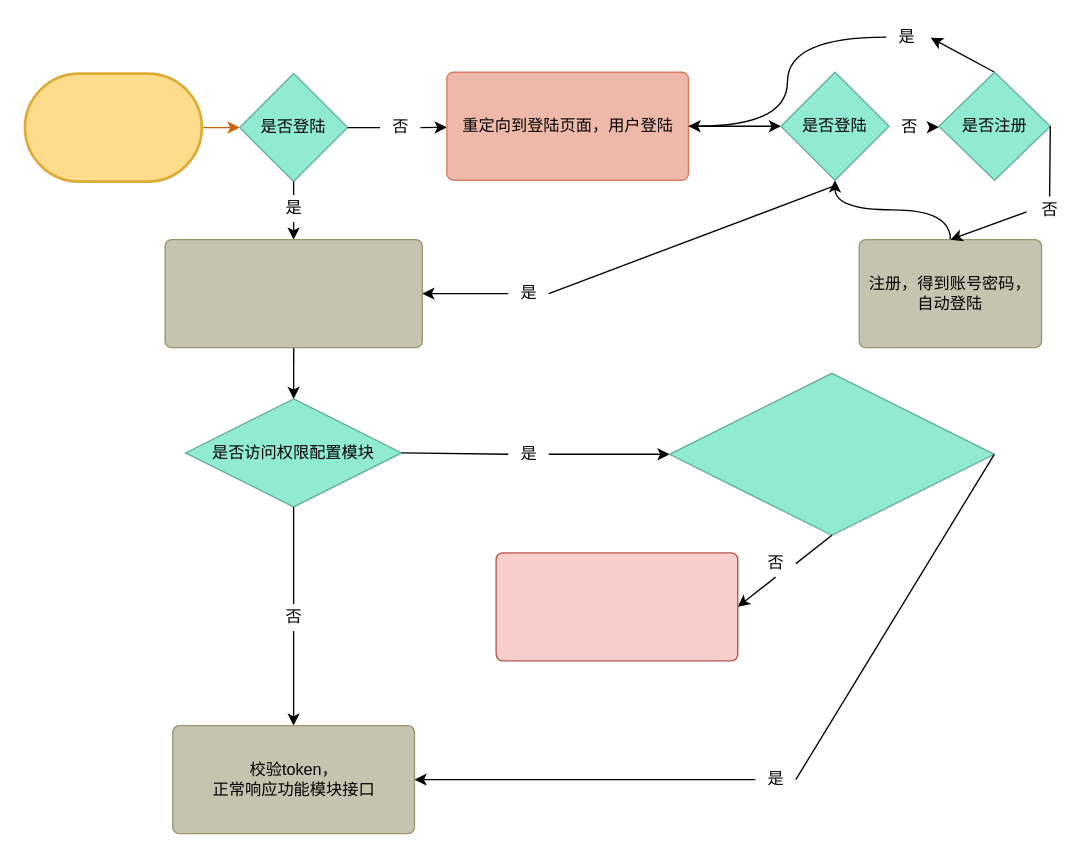
This 1092x857 diagram has some shape labels left out. The centre of each missing label's shape, as x and y in pixels:
"无权限，拒绝接口请求并提示" goes at (x=616, y=606).
"用户角色数组是否与角色白名单有交集" goes at (x=831, y=453).
"获取token、用户信息， 路由数组。 进入系统，默认在首页。 访问功能模块，请求接口。" goes at (x=293, y=293).
"访问系统" goes at (x=112, y=127).
